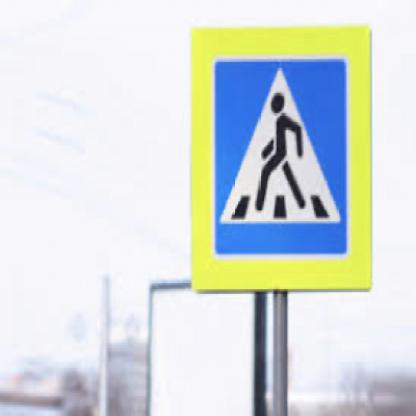crosswalk: (214, 57, 346, 254)
